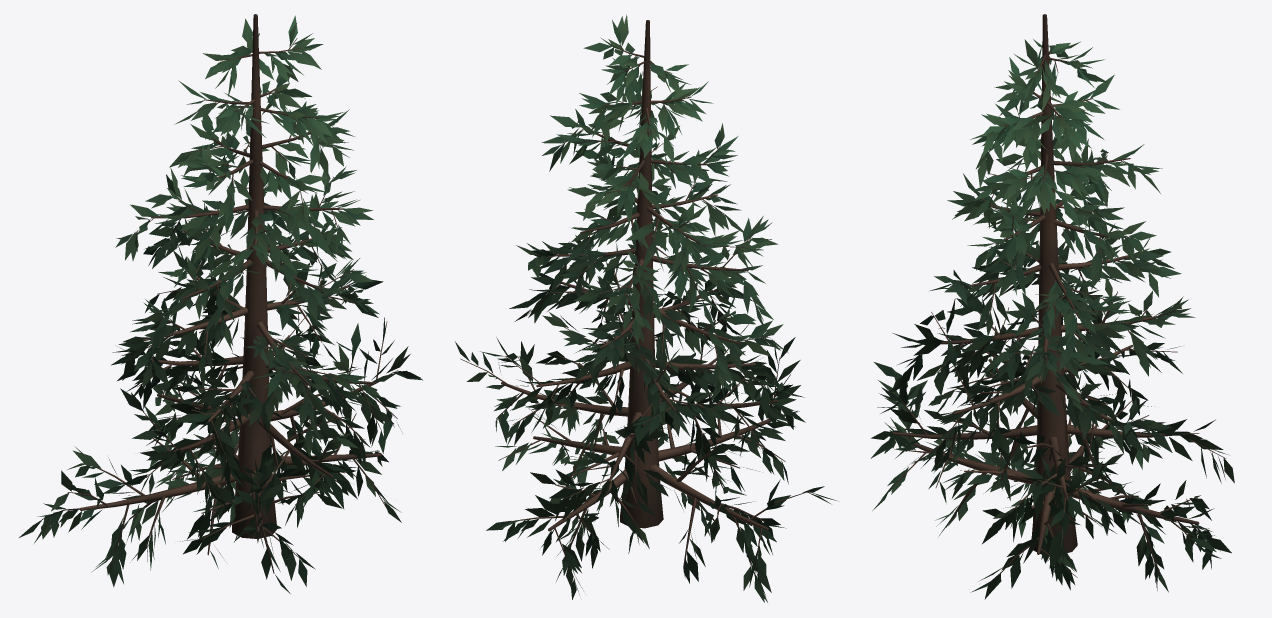
File: spruce-b.lod0.glb
3 views of the same model, side by side, from view 1: azimuth 30°, elevation 25°; view 2: azimuth 150°, elevation 25°; view 3: azimuth 270°, elevation 25° (orthographic). The views are drawn at different scales.
Size of the model in its own units: 5.91 by 8.31 by 5.06.
